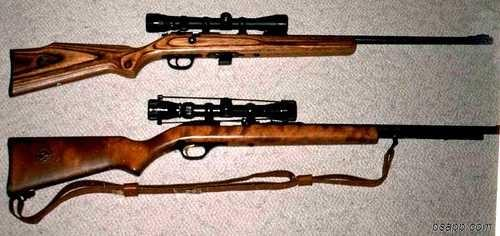heavyweapon: (4, 3, 499, 104), (4, 114, 500, 213)
